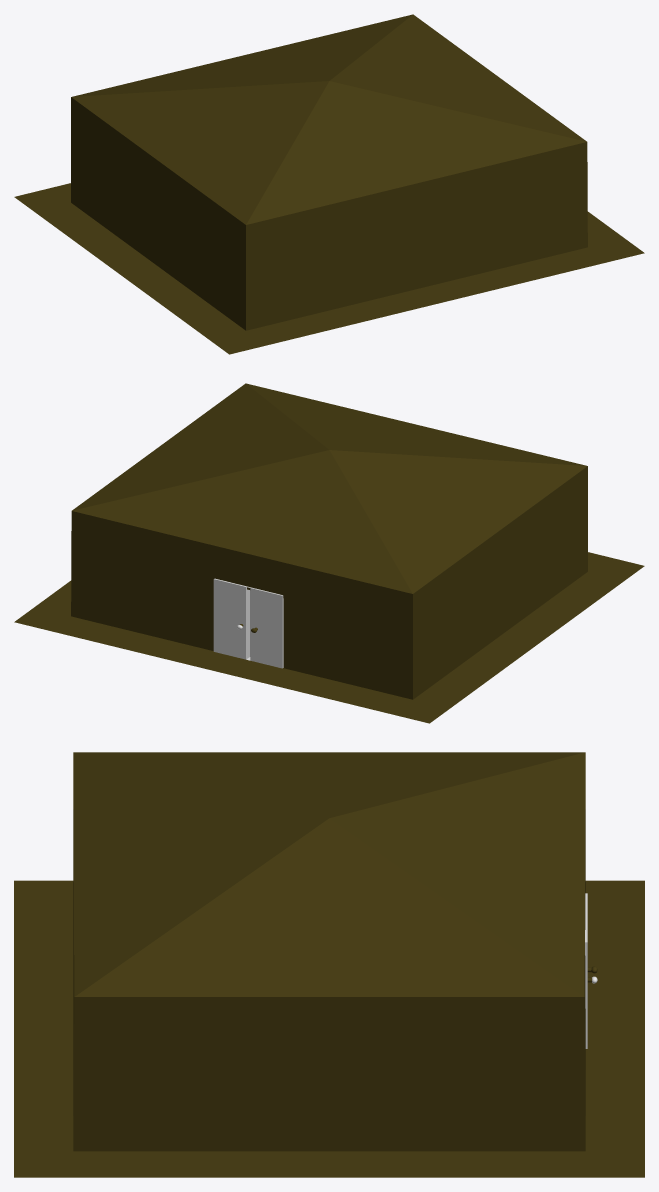
The model's file is casa_joc3.fbx.
The picture shows the model from 3 angles, top to bottom: view 1: azimuth 30°, elevation 25°; view 2: azimuth 150°, elevation 25°; view 3: azimuth 270°, elevation 25°; orthographic projection. The views are drawn at different scales.
Parts seen in each view (by area): view 1: Cube; view 2: Cube; view 3: Cube.
Boxes of the visible parts, x1,y1,x2,y2 form: Cube: [14, 14, 644, 354]; Cube: [14, 383, 644, 723]; Cube: [14, 752, 644, 1177].
Bounding box in the file's own units: 1210 × 402 × 1086.
